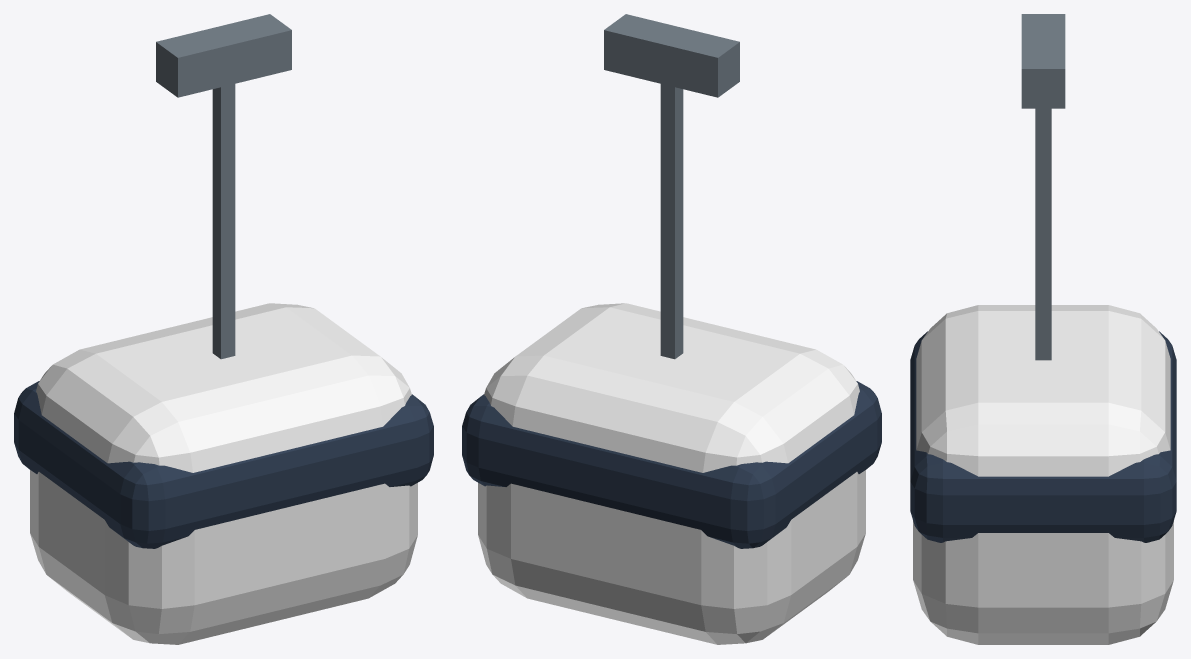
Rendered from gondola.glb.
The picture shows the model from 3 angles, left to right: view 1: azimuth 30°, elevation 25°; view 2: azimuth 150°, elevation 25°; view 3: azimuth 270°, elevation 25°; orthographic projection.
Parts seen in each view (by area): view 1: gondola; view 2: gondola; view 3: gondola.
Part boxes in pixels (x1,y1,x2,y2): gondola: (14,14,433,644); gondola: (462,14,881,644); gondola: (910,14,1176,644).
Size of the model in its own units: 3.25 by 5.6 by 2.45.
